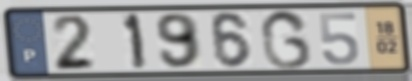1: (119, 11, 150, 72)
2: (48, 13, 98, 73)
5: (316, 11, 361, 67)
6: (210, 10, 255, 71)
9: (154, 11, 206, 71)
G: (258, 8, 314, 72)
